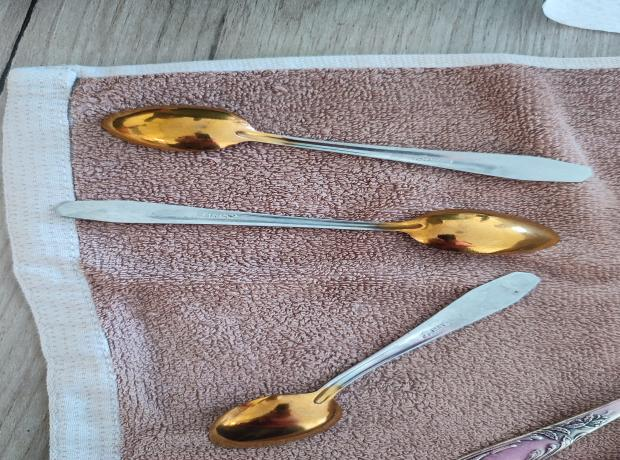metal: (206, 272, 540, 452), (102, 104, 595, 186), (55, 199, 560, 256)
